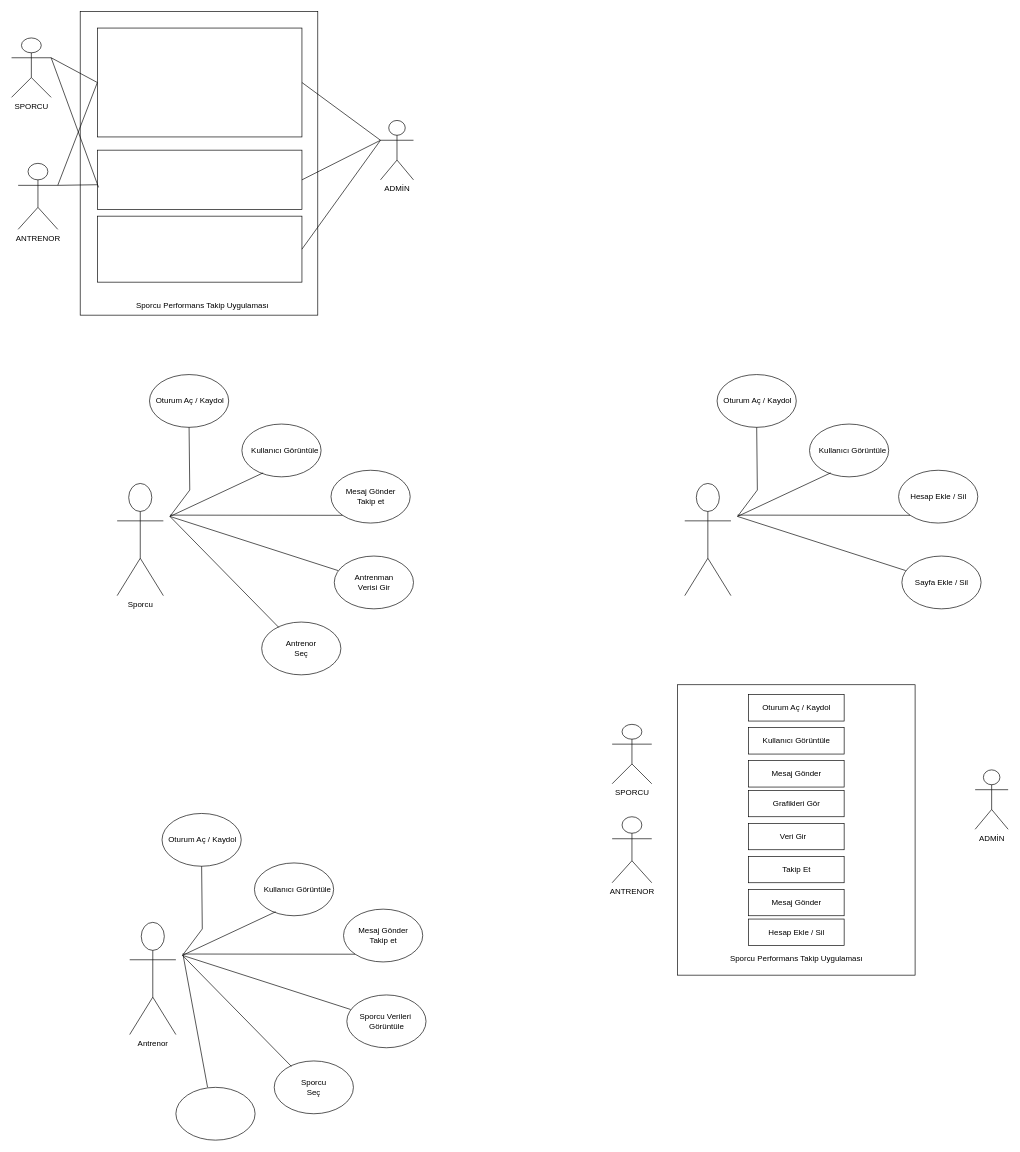
Some shapes in this 1020 by 1152 pixel diagram are drawn without their labels. The centre of each missing label's shape, as x and y in pixels:
"Admin" belongs at (707,539).
"Antrenman Programı Oluştur" belongs at (215,1113).
"Hesap Yönetimi" belongs at (199,179).
"Uygulama Kullanımı" belongs at (199,82).
"Uygulama Yönetimi" belongs at (199,248).
